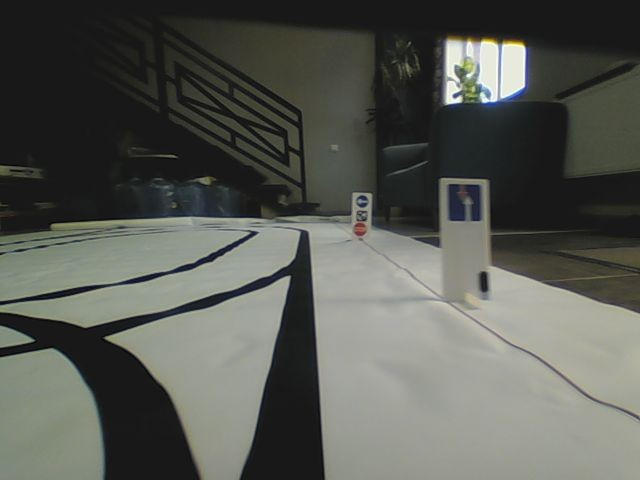Stop: (354, 223, 367, 235)
priority_movement: (445, 181, 482, 222)
